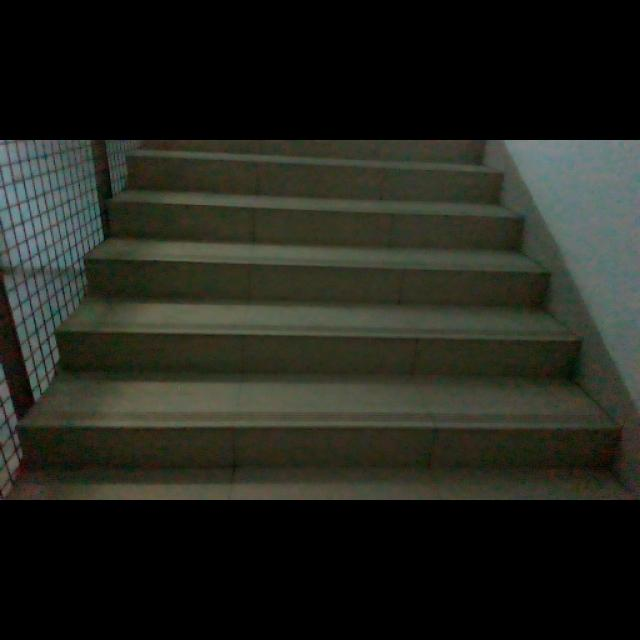stair: (23, 142, 615, 488)
